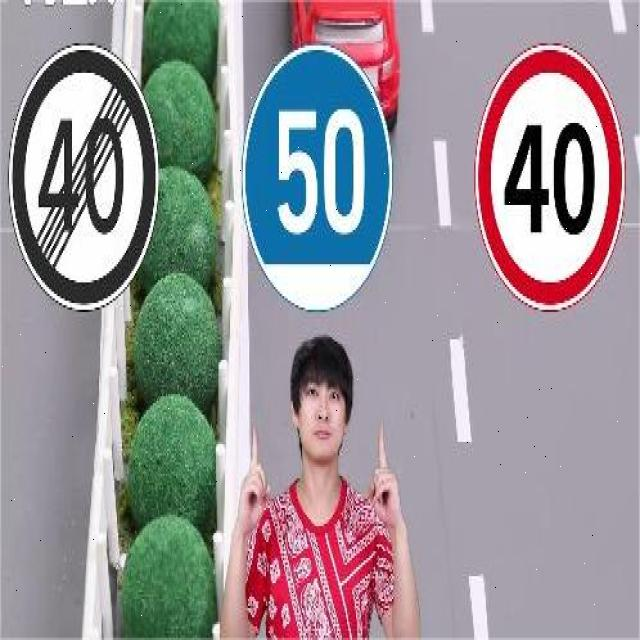speed limit 40: (474, 44, 627, 309)
speed limit 50: (240, 45, 394, 313)
